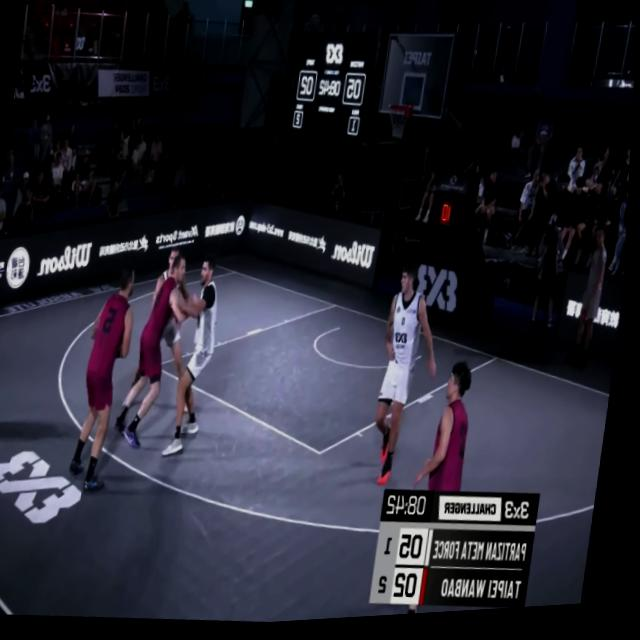hoop: (385, 103, 415, 150)
player: (395, 360, 483, 620), (117, 252, 208, 460), (371, 267, 454, 493), (70, 262, 143, 501), (158, 254, 232, 463), (138, 246, 213, 438)
